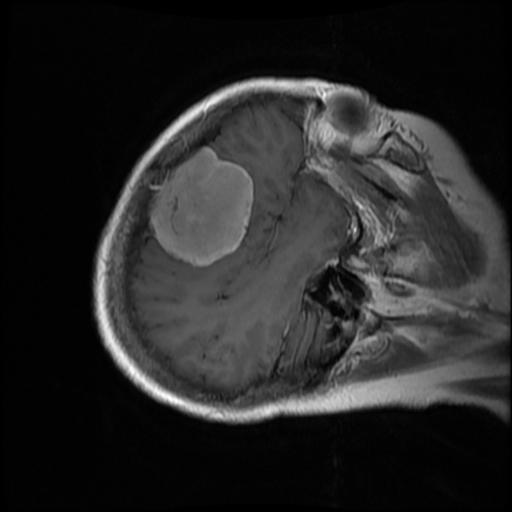meningioma: (148, 145, 254, 268)
